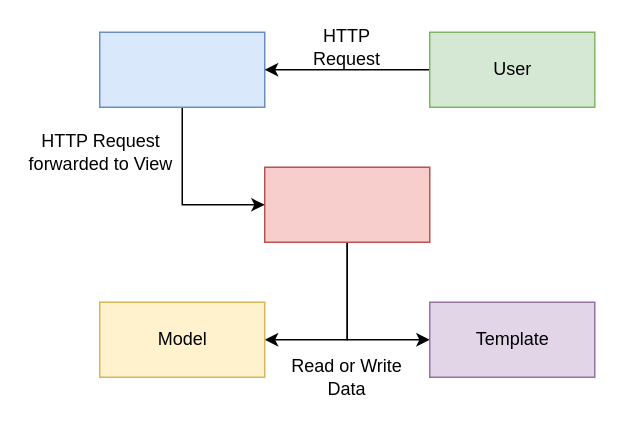
Image size: 621x425. Some labels were removed from this diagram. Here are the shapes that lost their labels. From the top down, the box of each, then its label:
(98, 31, 265, 107): URL
(263, 166, 430, 242): View
